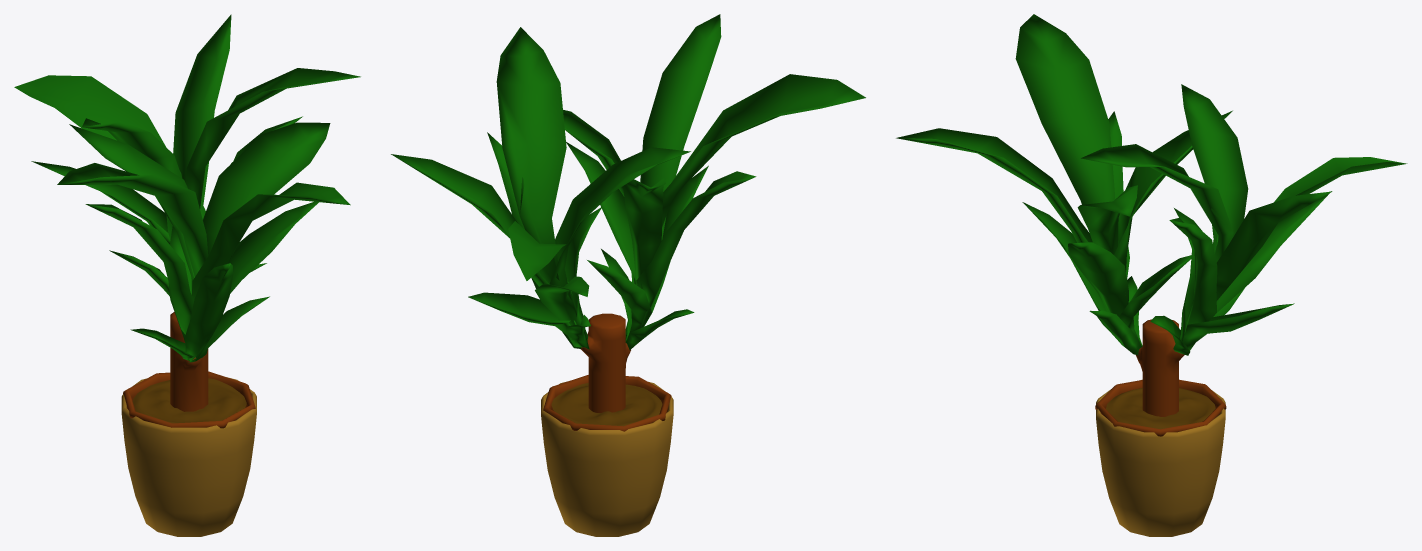
The model's file is plant.dae.
3 views of the same model, side by side, from view 1: azimuth 30°, elevation 25°; view 2: azimuth 150°, elevation 25°; view 3: azimuth 270°, elevation 25° (orthographic). The views are drawn at different scales.
Parts seen in each view (by area): view 1: indoor_plant_02; view 2: indoor_plant_02; view 3: indoor_plant_02.
Boxes of the visible parts, <box> form: indoor_plant_02: <box>14,14,360,536</box>; indoor_plant_02: <box>391,14,865,536</box>; indoor_plant_02: <box>896,14,1407,536</box>.
Size of the model in its own units: 4.87 by 6.83 by 6.22.
